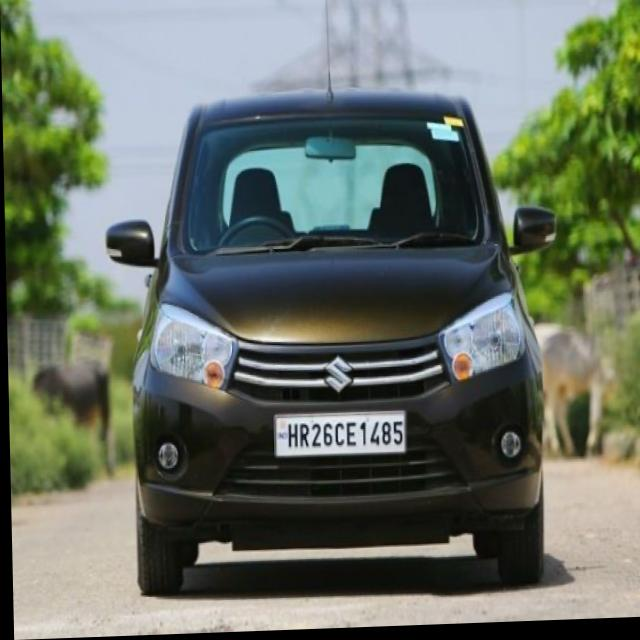licence: (259, 406, 411, 462)
